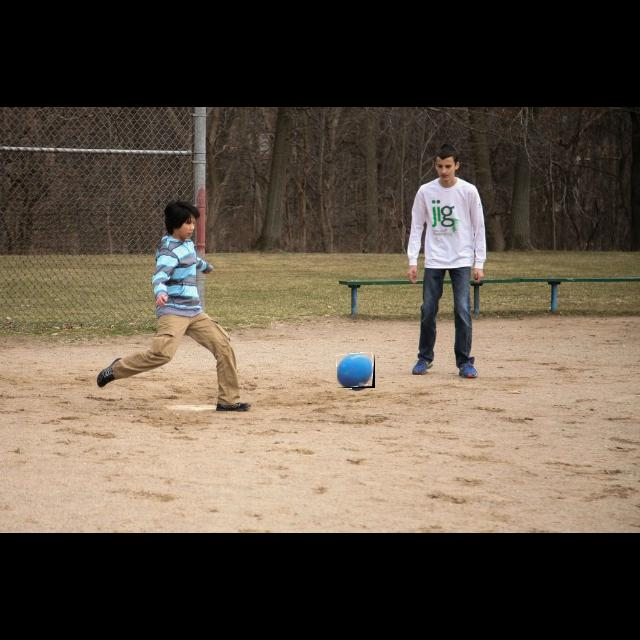Football: (337, 354, 375, 388)
